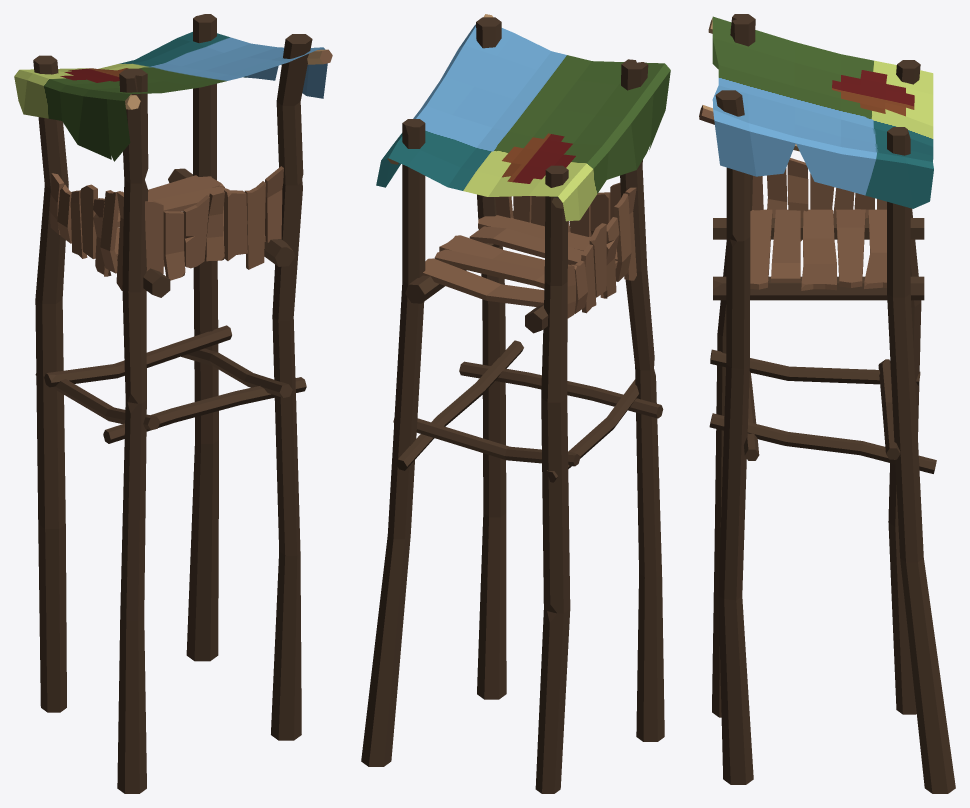
The model's file is Tower_2.fbx.
The picture shows the model from 3 angles, left to right: view 1: azimuth 30°, elevation 25°; view 2: azimuth 150°, elevation 25°; view 3: azimuth 270°, elevation 25°; orthographic projection. The views are drawn at different scales.
Parts seen in each view (by area): view 1: Tower_2; view 2: Tower_2; view 3: Tower_2.
Boxes of the visible parts, x1,y1,x2,y2 form: Tower_2: (14,14,332,793); Tower_2: (361,14,670,793); Tower_2: (699,14,955,793).
Size of the model in its own units: 143 by 460 by 153.
